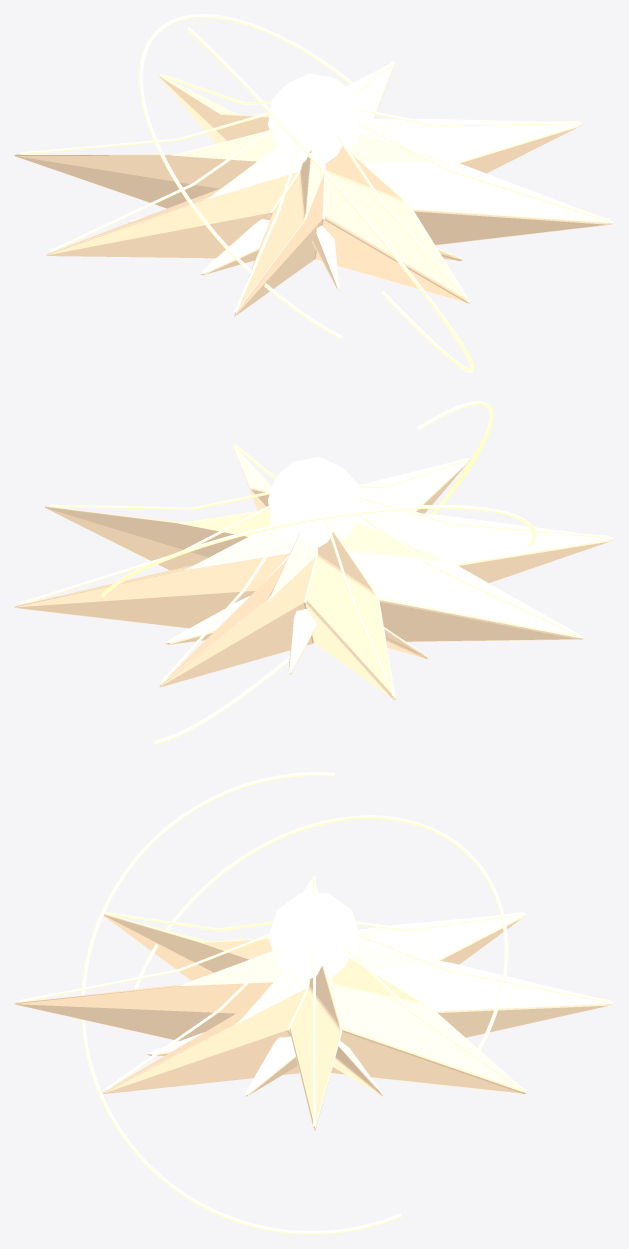
File: solis.glb
3 renders of one model, top to bottom at view 1: azimuth 30°, elevation 25°; view 2: azimuth 150°, elevation 25°; view 3: azimuth 270°, elevation 25°, orthographic. The views are drawn at different scales.
Visible parts, largest first — view 1: solis primary, solis radiant core, solis orbit export, solis orbit.001 export, solis undercrown, solis filament.005 export, solis filament.002 export, solis filament.001 export, solis filament.006 export, solis filament.004 export, solis filament.003 export; view 2: solis primary, solis radiant core, solis undercrown, solis orbit export, solis orbit.001 export, solis filament.002 export, solis filament.003 export, solis filament.007 export, solis filament.006 export, solis filament export, solis filament.001 export; view 3: solis primary, solis radiant core, solis orbit.001 export, solis undercrown, solis orbit export, solis filament.004 export, solis filament export, solis filament.005 export, solis filament.007 export.
Boxes of the visible parts, x1,y1,x2,y2 form: solis primary: [14, 63, 614, 316]; solis radiant core: [268, 73, 360, 164]; solis orbit export: [139, 14, 352, 338]; solis orbit.001 export: [187, 27, 474, 372]; solis undercrown: [128, 216, 462, 290]; solis filament.005 export: [358, 121, 608, 221]; solis filament.002 export: [50, 126, 276, 252]; solis filament.001 export: [20, 112, 269, 154]; solis filament.006 export: [358, 108, 578, 126]; solis filament.004 export: [336, 134, 467, 299]; solis filament.003 export: [234, 135, 303, 312]; solis primary: [14, 445, 614, 700]; solis radiant core: [268, 456, 360, 548]; solis undercrown: [165, 596, 428, 674]; solis orbit export: [101, 505, 535, 597]; solis orbit.001 export: [154, 401, 493, 743]; solis filament.002 export: [352, 509, 579, 635]; solis filament.003 export: [359, 495, 609, 538]; solis filament.007 export: [19, 504, 270, 604]; solis filament.006 export: [49, 491, 270, 509]; solis filament export: [160, 517, 292, 682]; solis filament.001 export: [325, 519, 394, 695]; solis primary: [14, 877, 614, 1130]; solis radiant core: [268, 893, 360, 978]; solis orbit.001 export: [81, 772, 401, 1234]; solis undercrown: [146, 1032, 383, 1096]; solis orbit export: [133, 815, 508, 1050]; solis filament.004 export: [20, 933, 269, 1002]; solis filament export: [359, 933, 608, 1002]; solis filament.005 export: [105, 946, 284, 1090]; solis filament.007 export: [344, 946, 523, 1090].
Size of the model in its own units: 3.78 by 2.44 by 3.78.
